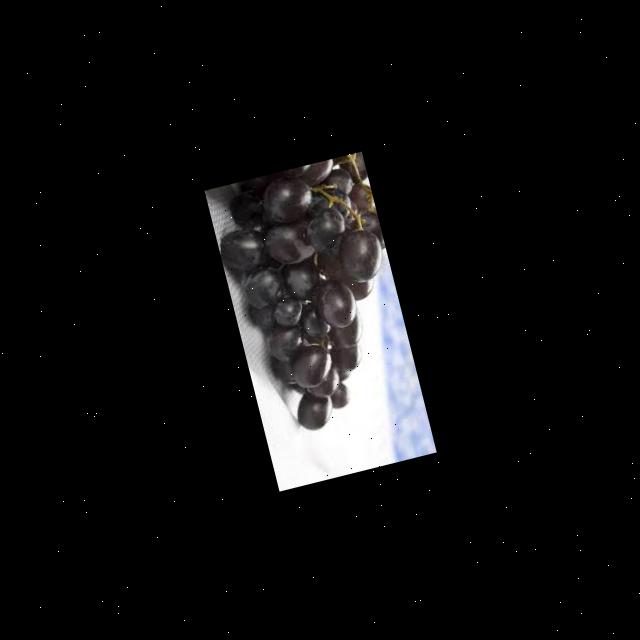grape: (205, 151, 424, 441)
